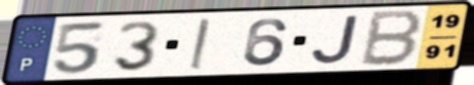3: (111, 20, 162, 72)
5: (49, 19, 108, 76)
6: (243, 17, 289, 68)
B: (357, 8, 427, 68)
I: (187, 16, 213, 71)
J: (309, 13, 363, 66)
